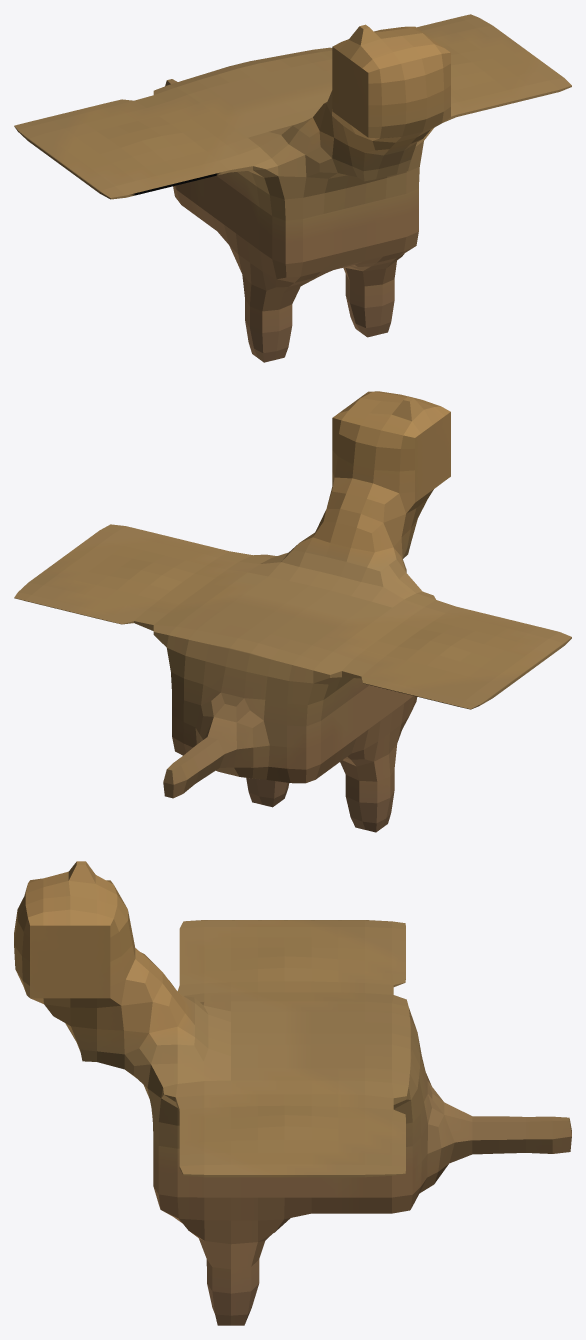
File: hydra.glb
The picture shows the model from 3 angles, top to bottom: view 1: azimuth 30°, elevation 25°; view 2: azimuth 150°, elevation 25°; view 3: azimuth 270°, elevation 25°; orthographic projection. The views are drawn at different scales.
Parts seen in each view (by area): view 1: geometry_0; view 2: geometry_0; view 3: geometry_0.
Part boxes in pixels (x1=…): geometry_0: x1=14, y1=14, x2=571, y2=362; geometry_0: x1=14, y1=391, x2=571, y2=832; geometry_0: x1=14, y1=861, x2=571, y2=1325.
Size of the model in its own units: 1.25 by 0.9519 by 1.16.
Materials: 1 (1 with a texture image).
